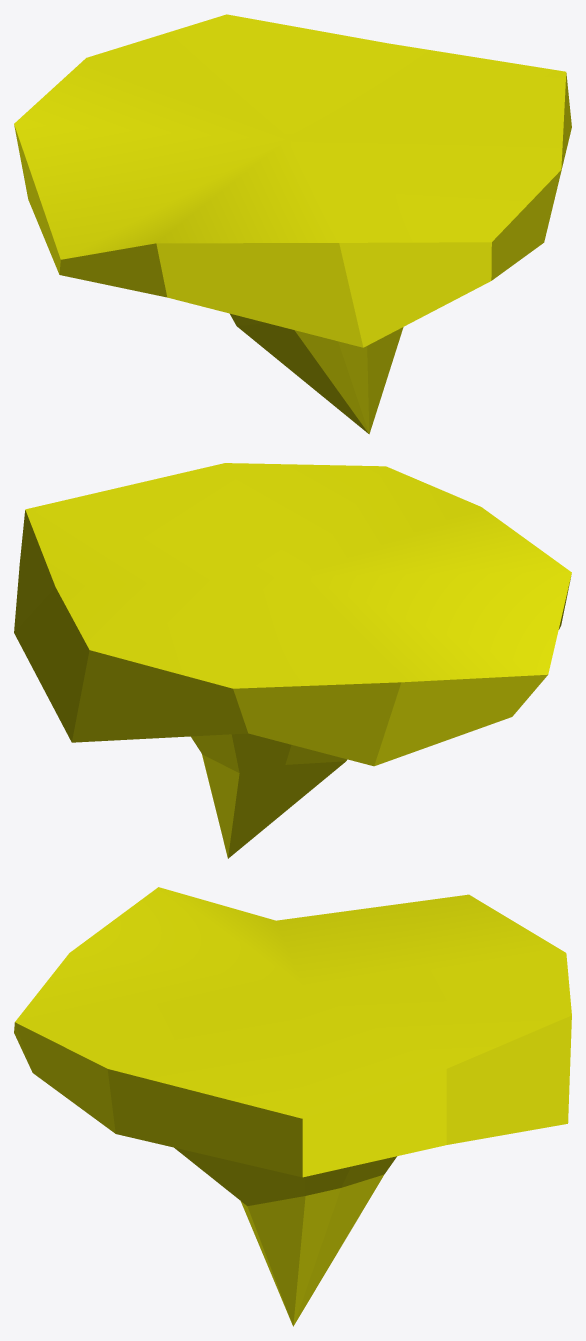
File: plataforma flotante low variacion .fbx
3 renders of one model, top to bottom at view 1: azimuth 30°, elevation 25°; view 2: azimuth 150°, elevation 25°; view 3: azimuth 270°, elevation 25°, orthographic.
Parts seen in each view (by area): view 1: polySurface1; view 2: polySurface1; view 3: polySurface1.
Boxes of the visible parts, box(x1,y1,x2,y2) form: polySurface1: box(14, 14, 571, 434); polySurface1: box(14, 463, 571, 858); polySurface1: box(14, 887, 571, 1326).
Bounding box in the file's own units: 4.58 × 2.64 × 4.29.
